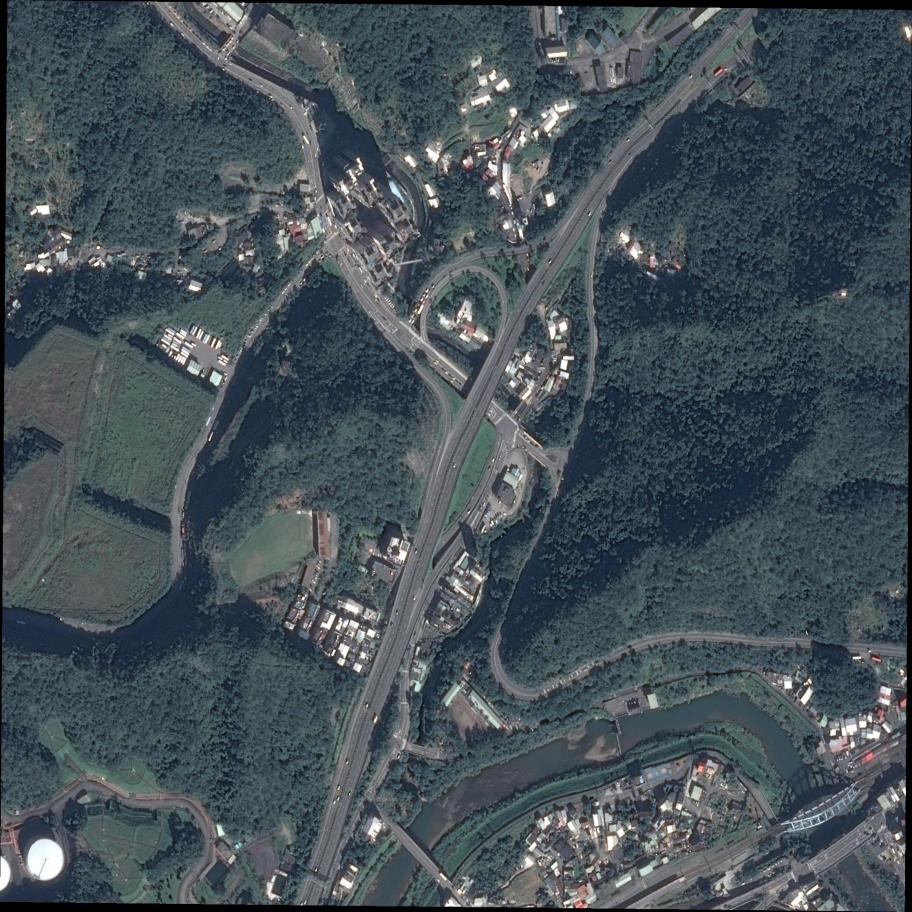storage-tank: (25, 836, 64, 882)
